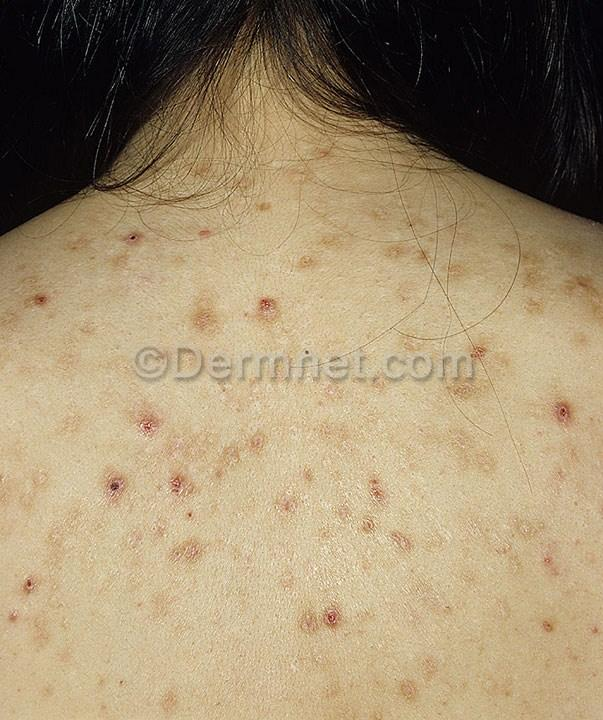Acne: (129, 390, 180, 443), (76, 465, 141, 505), (250, 272, 293, 326), (182, 289, 225, 339), (529, 392, 581, 432), (166, 465, 203, 513)
